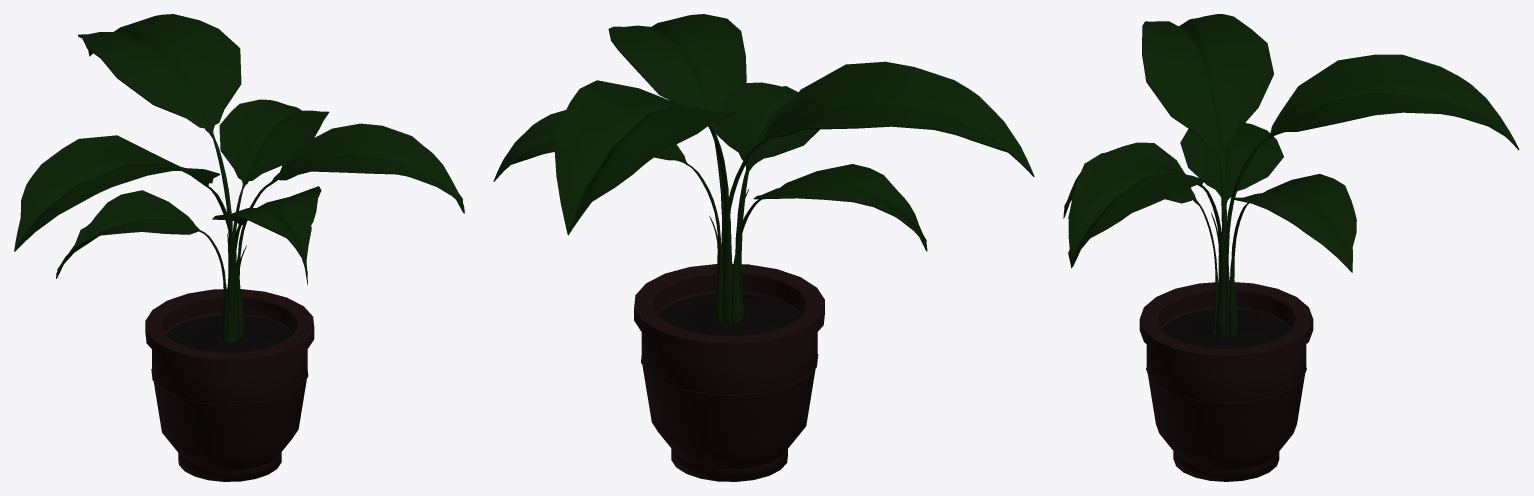
File: Plant Pot 1.fbx
3 views of the same model, side by side, from view 1: azimuth 30°, elevation 25°; view 2: azimuth 150°, elevation 25°; view 3: azimuth 270°, elevation 25° (orthographic). The views are drawn at different scales.
Parts seen in each view (by area): view 1: polySurface7, pCylinder1; view 2: polySurface7, pCylinder1; view 3: polySurface7, pCylinder1.
Part boxes in pixels (x1,y1,x2,y2): polySurface7: [14, 14, 464, 341]; pCylinder1: [145, 289, 314, 481]; polySurface7: [493, 14, 1034, 323]; pCylinder1: [634, 264, 824, 481]; polySurface7: [1063, 14, 1519, 336]; pCylinder1: [1139, 282, 1313, 481].
Bounding box in the file's own units: 0.6464 × 0.5574 × 0.613.
